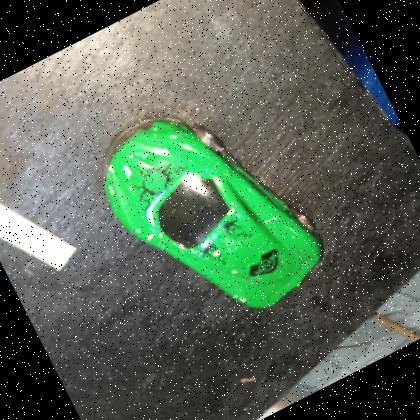Car: (103, 117, 323, 308)
